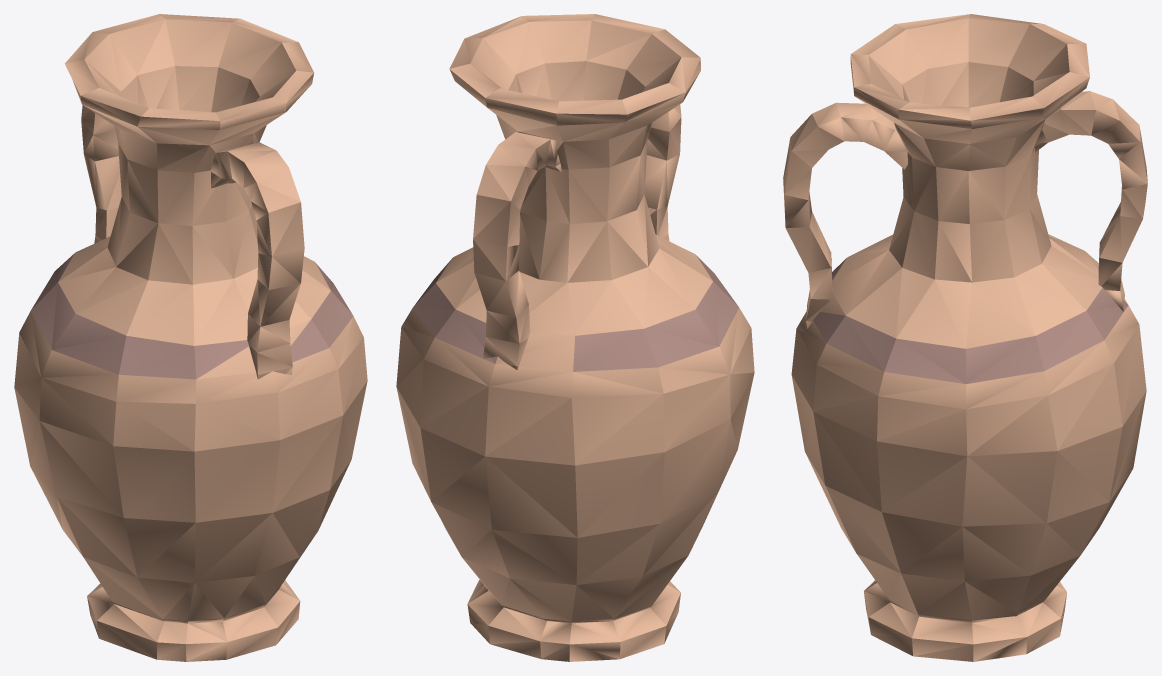
The model's file is amphora.glb.
The picture shows the model from 3 angles, left to right: view 1: azimuth 30°, elevation 25°; view 2: azimuth 150°, elevation 25°; view 3: azimuth 270°, elevation 25°; orthographic projection.
Visible parts, largest first — view 1: tripo_node_e402cee5-1bca-4f90-8150-66e3ad42f110; view 2: tripo_node_e402cee5-1bca-4f90-8150-66e3ad42f110; view 3: tripo_node_e402cee5-1bca-4f90-8150-66e3ad42f110.
Part boxes in pixels (left/top/right/bottom): tripo_node_e402cee5-1bca-4f90-8150-66e3ad42f110: left=14, top=14, right=367, bottom=661; tripo_node_e402cee5-1bca-4f90-8150-66e3ad42f110: left=396, top=14, right=754, bottom=661; tripo_node_e402cee5-1bca-4f90-8150-66e3ad42f110: left=783, top=14, right=1147, bottom=661.
Bounding box in the file's own units: 0.5723 × 0.998 × 0.5918.
